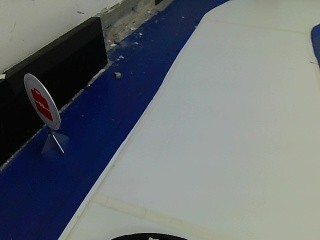company: (20, 68, 63, 130)
